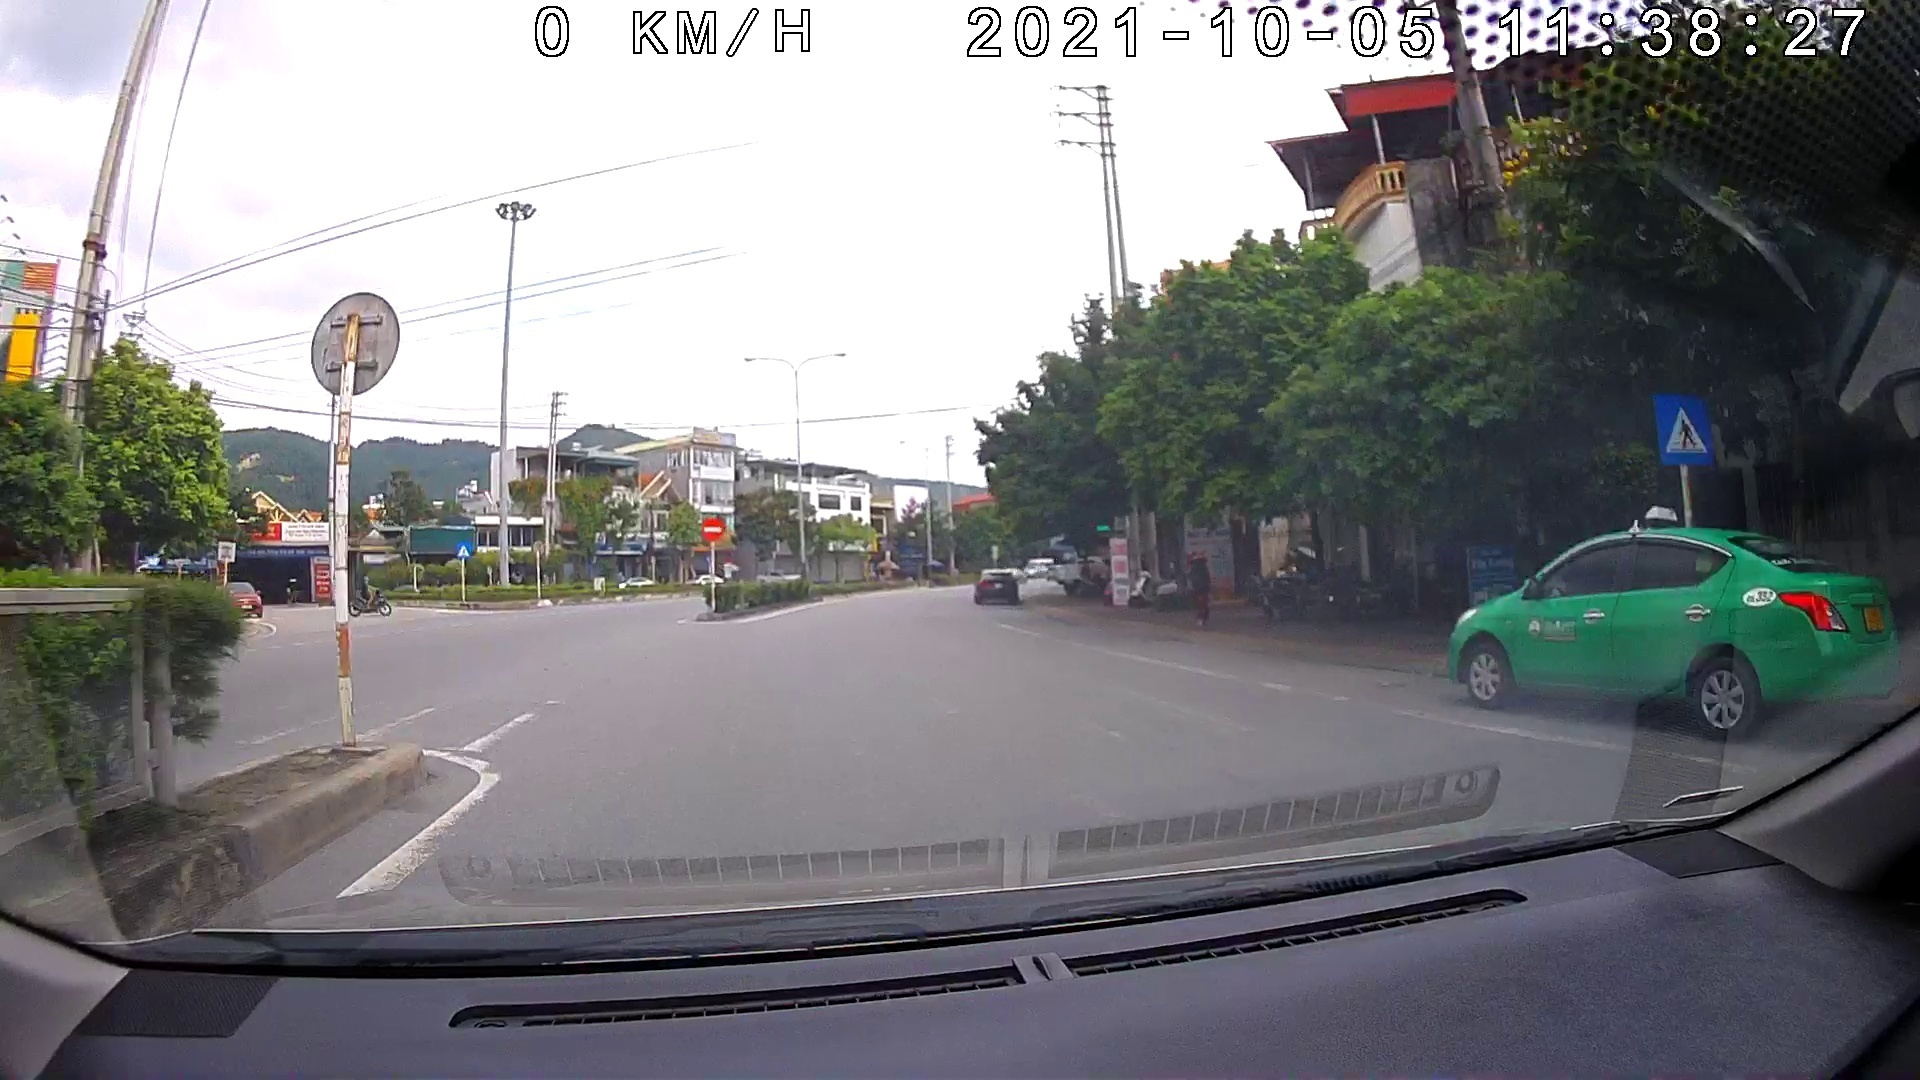Cam di nguoc chieu: (703, 520, 727, 542)
Nguoi di bo: (1646, 392, 1720, 468)
